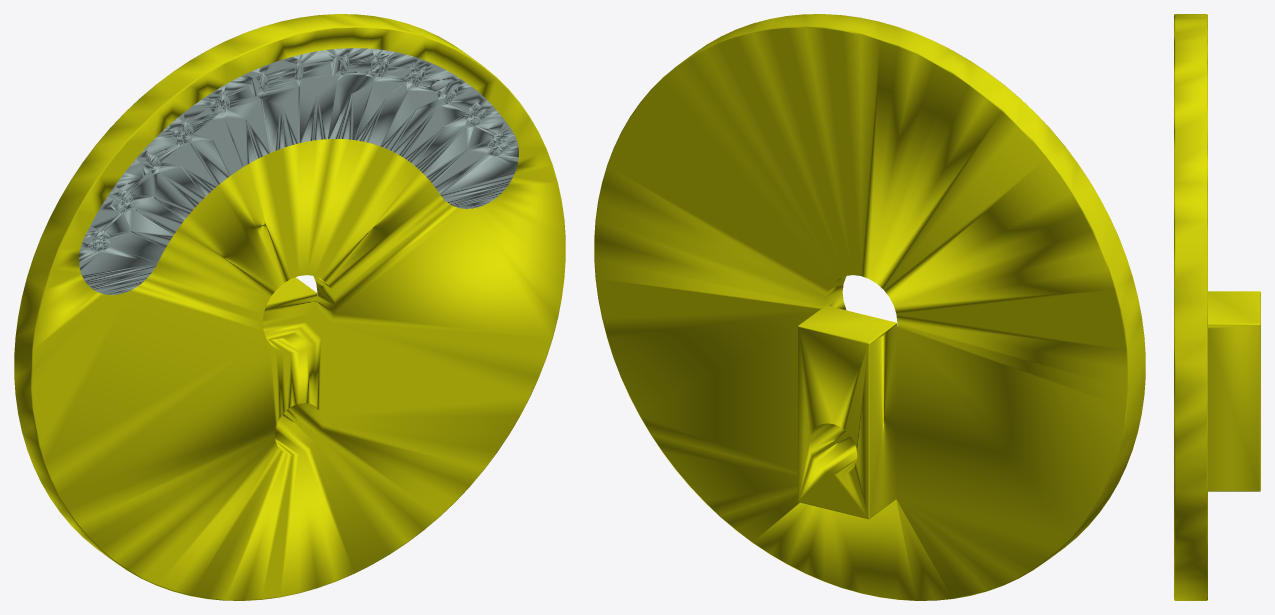
The model's file is lowerparts_frontplate.obj.
The picture shows the model from 3 angles, left to right: view 1: azimuth 30°, elevation 25°; view 2: azimuth 150°, elevation 25°; view 3: azimuth 270°, elevation 25°; orthographic projection. The views are drawn at different scales.
Size of the model in its own units: 44.31 by 44.34 by 6.55.
